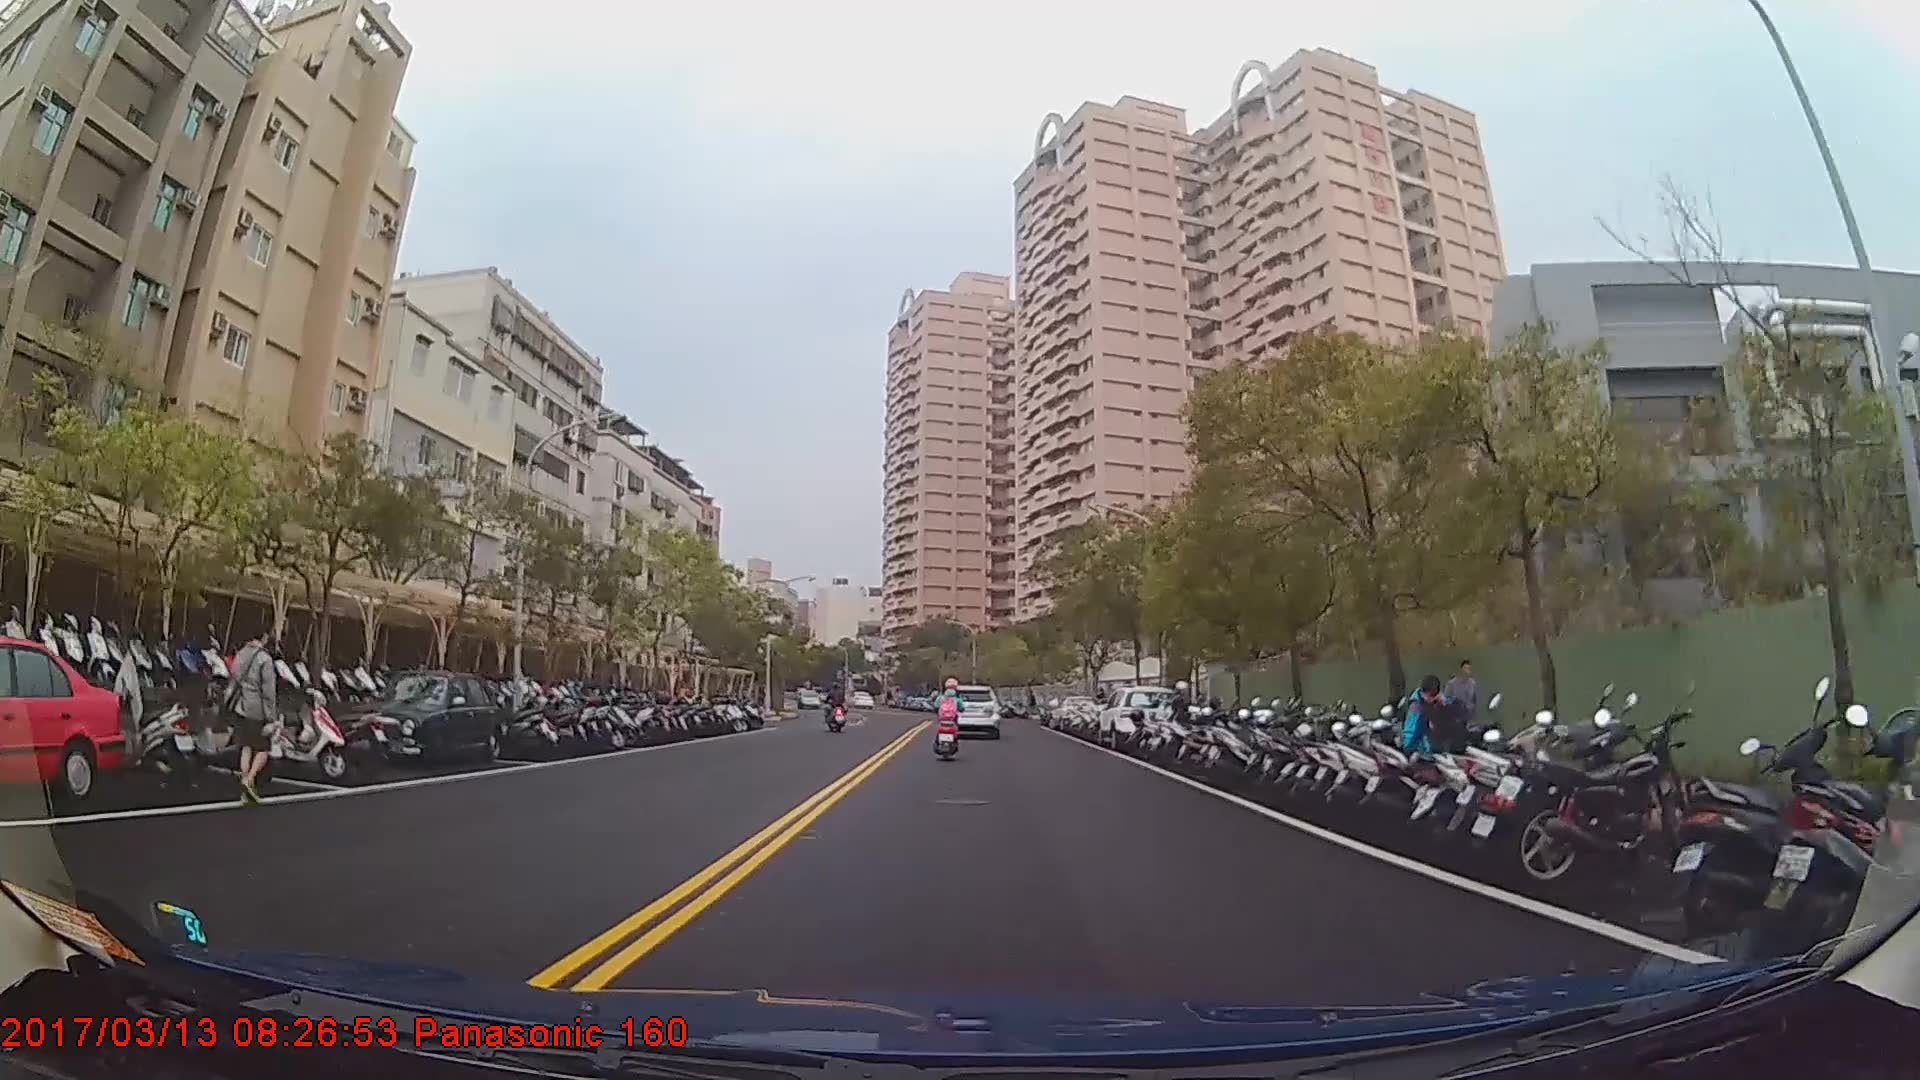pedestrian: (225, 617, 281, 810), (1406, 673, 1472, 822), (1442, 657, 1481, 764)
rider: (934, 677, 967, 750), (826, 679, 849, 729)
vehicle: (0, 636, 122, 805), (342, 667, 500, 769), (1096, 683, 1185, 749), (943, 679, 1000, 731)
